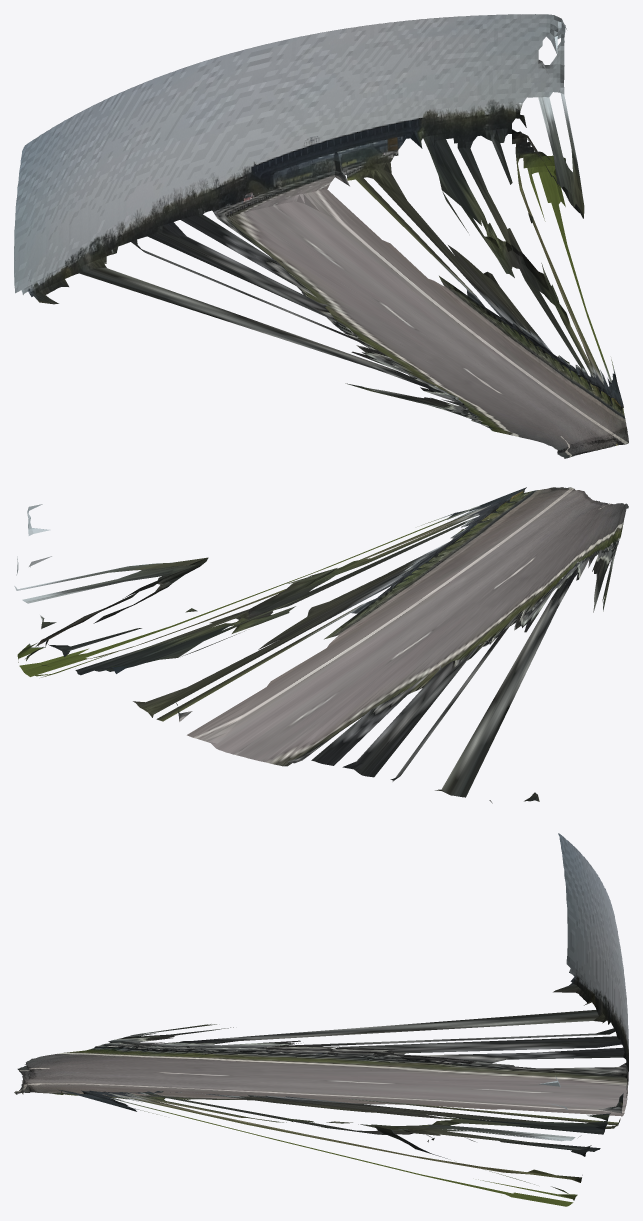
3 renders of one model, top to bottom at view 1: azimuth 30°, elevation 25°; view 2: azimuth 150°, elevation 25°; view 3: azimuth 270°, elevation 25°, orthographic. The views are drawn at different scales.
Visible parts, largest first — view 1: defaultobject; view 2: defaultobject; view 3: defaultobject.
Part boxes in pixels (x1,y1,x2,y2): defaultobject: (14,14,628,458); defaultobject: (14,487,628,803); defaultobject: (14,833,628,1206).
Size of the model in its own units: 41.09 by 12.65 by 44.8.
Materials: 1 (1 with a texture image).
